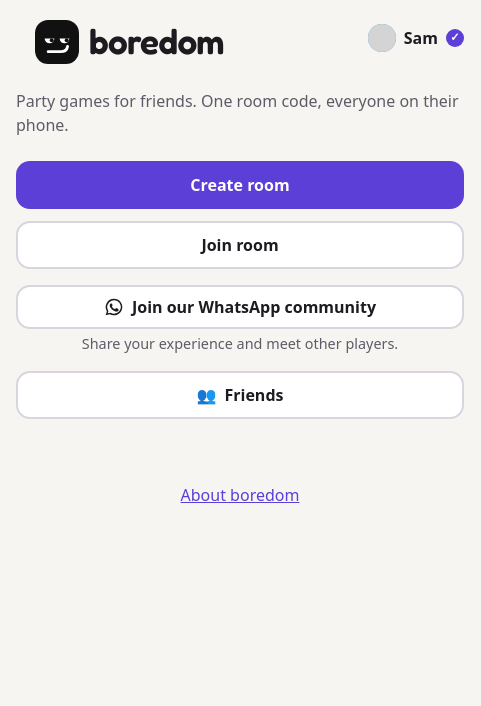
lobby "Invite friends" › sits right under the room code and keeps the link and share options
What coordinates should you click on to do the following:
click the button "Create room"
I would click on:
 (240, 185)
Its box is [16,161,464,209].
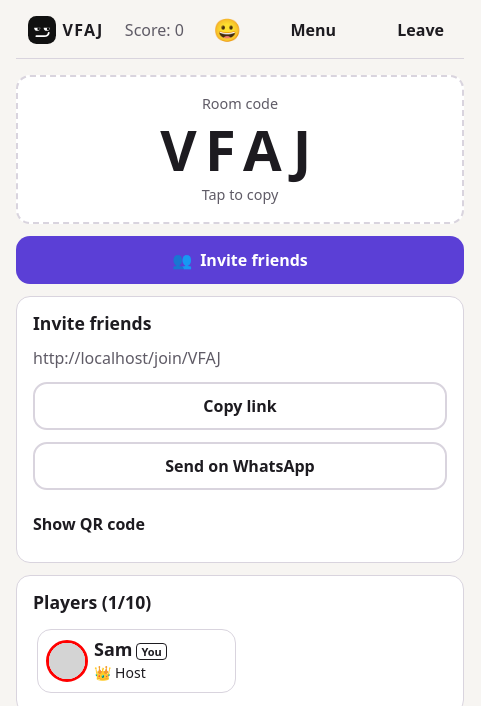
Now the button "Copy link" is shown, box [33,382,447,430]
Now the link "Send on WhatsApp" is shown, box [33,442,447,490]
